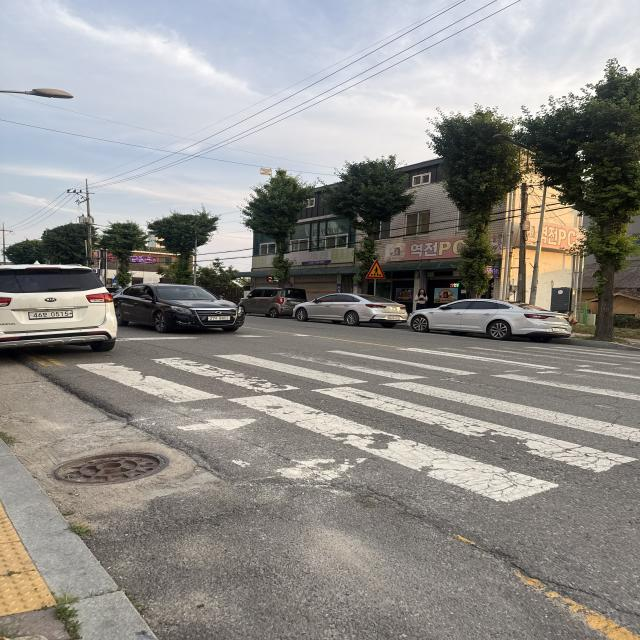car: (0, 262, 120, 356), (112, 283, 245, 334), (406, 298, 560, 341), (294, 294, 403, 328)
